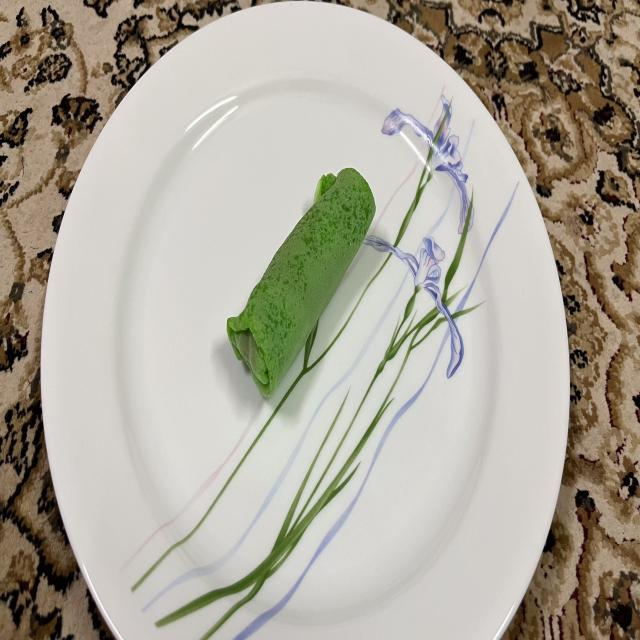Kuih-Ketayap: (228, 169, 375, 398)
